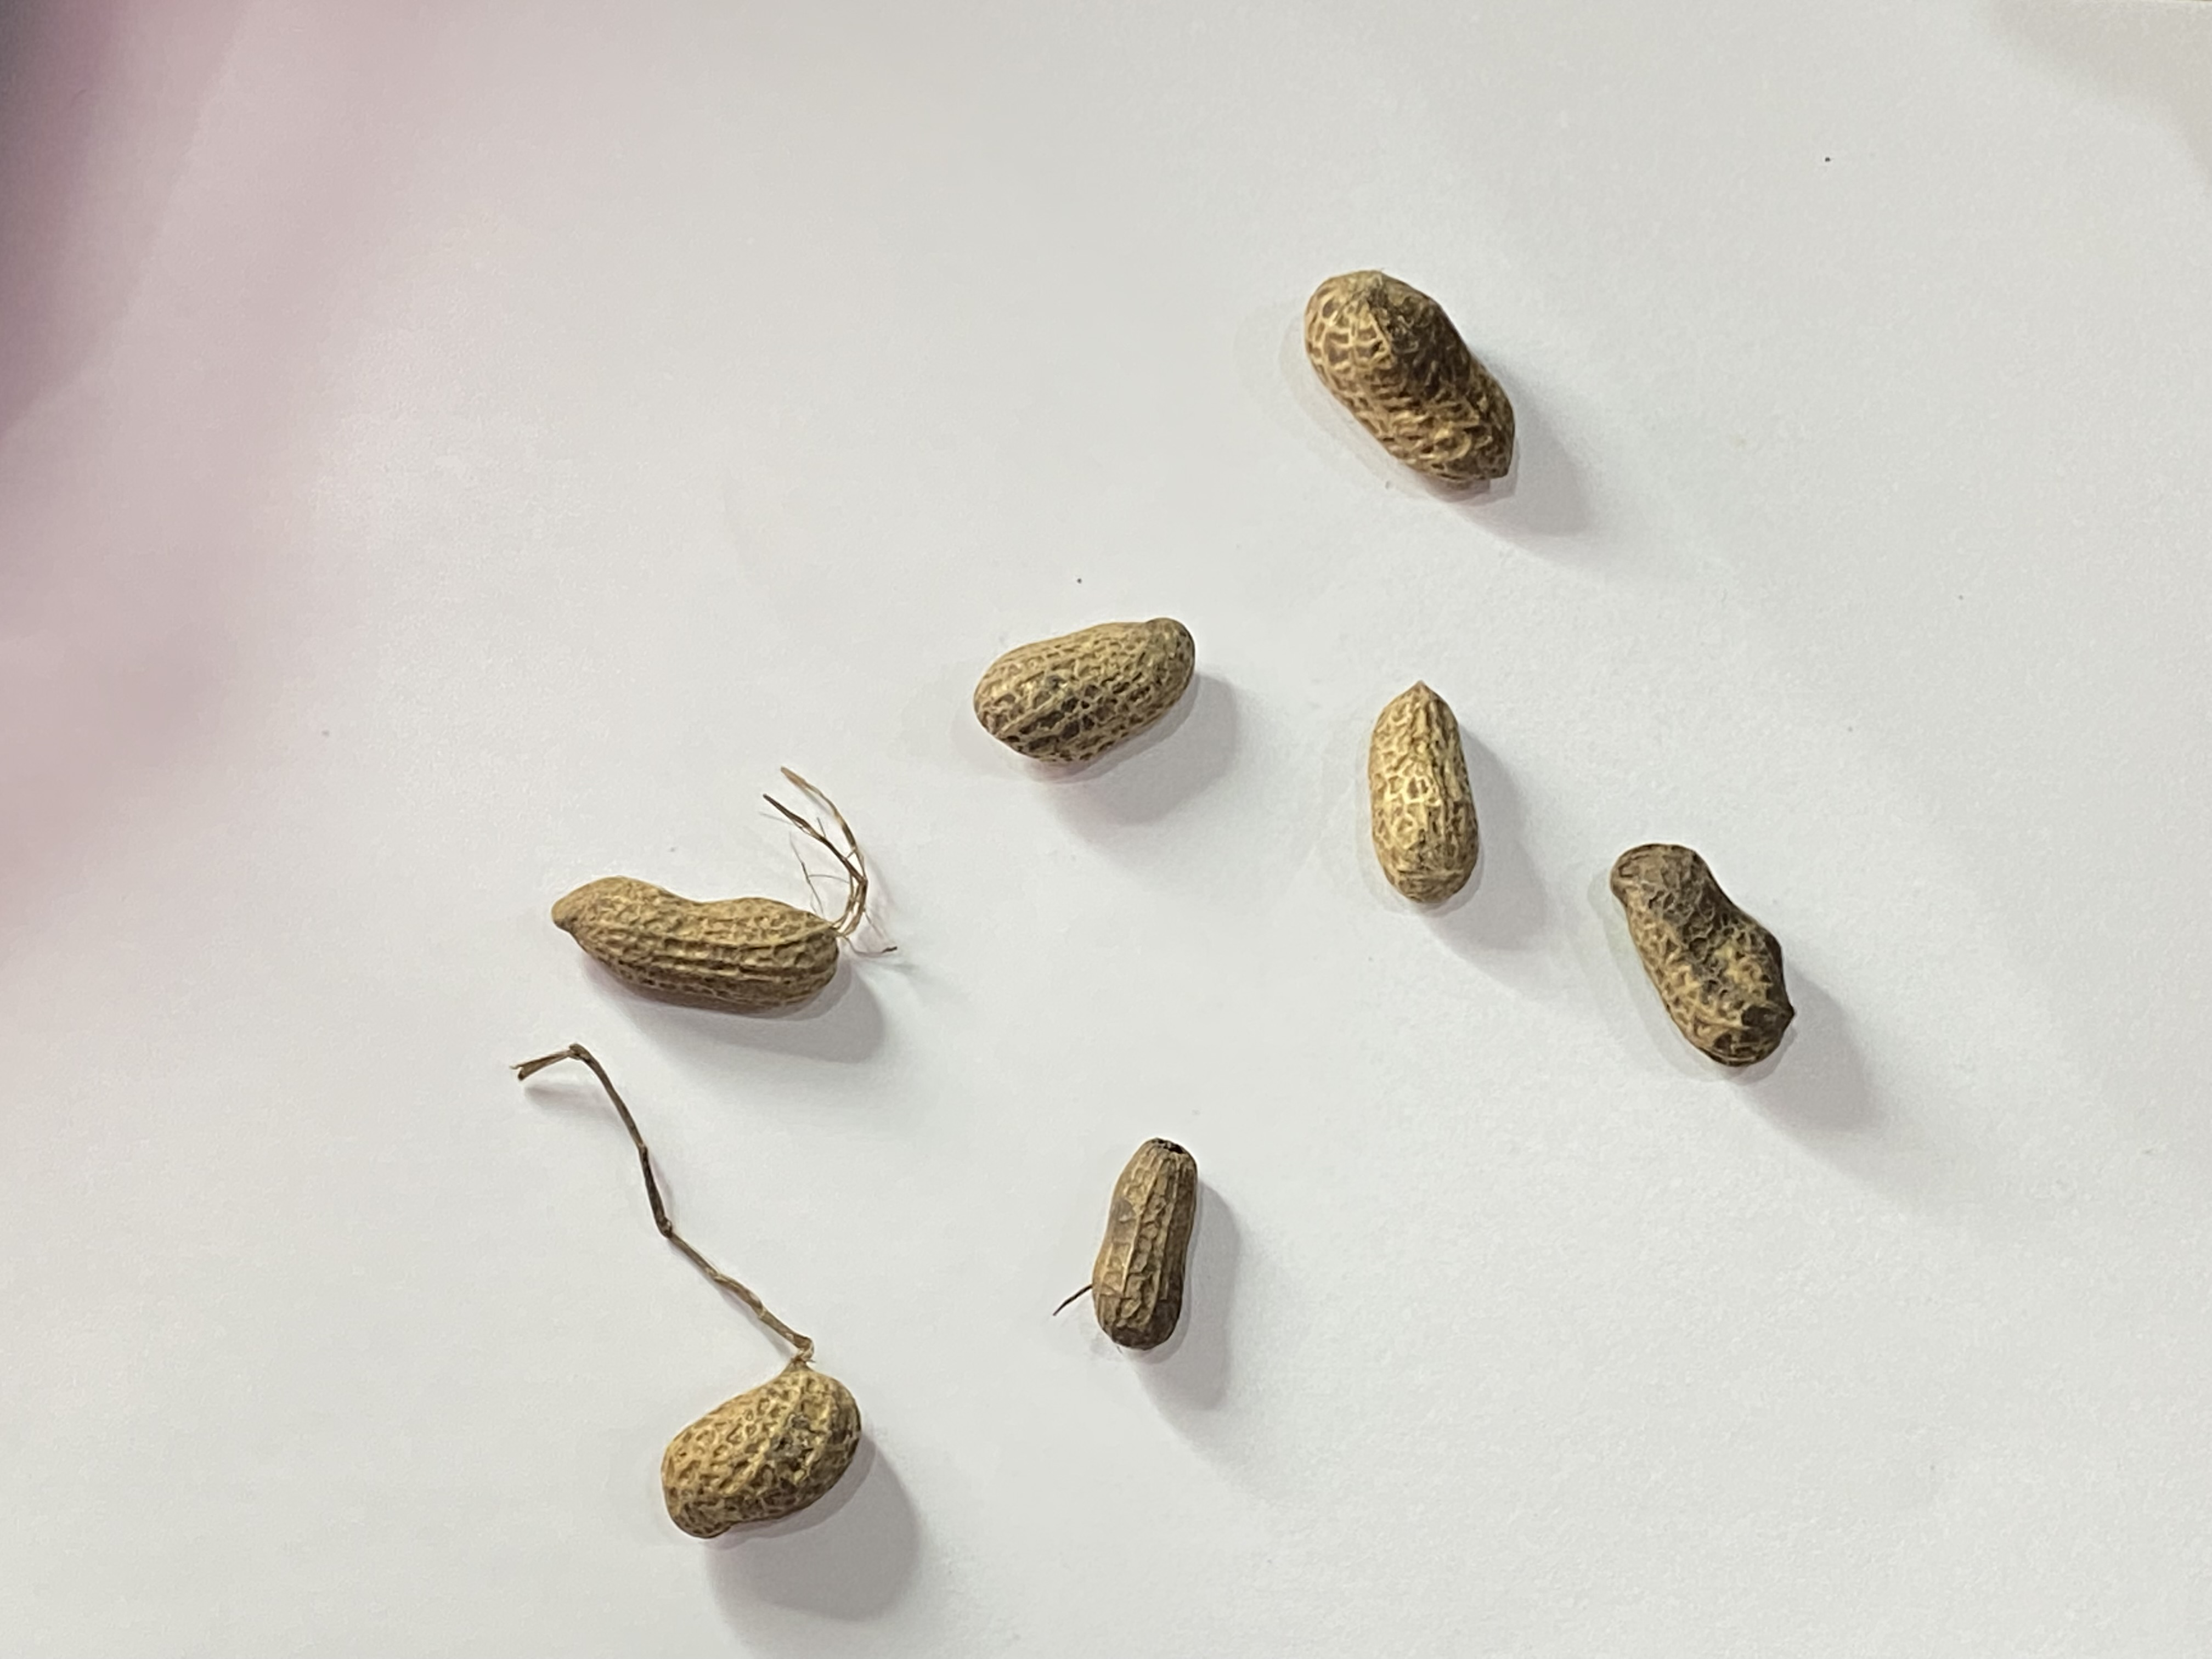kacang1: (632, 1358, 890, 1600)
kacang2: (1285, 249, 1529, 505), (1595, 836, 1831, 1066), (972, 586, 1221, 762), (1068, 1093, 1228, 1352), (535, 877, 848, 1009), (1360, 664, 1489, 925)
